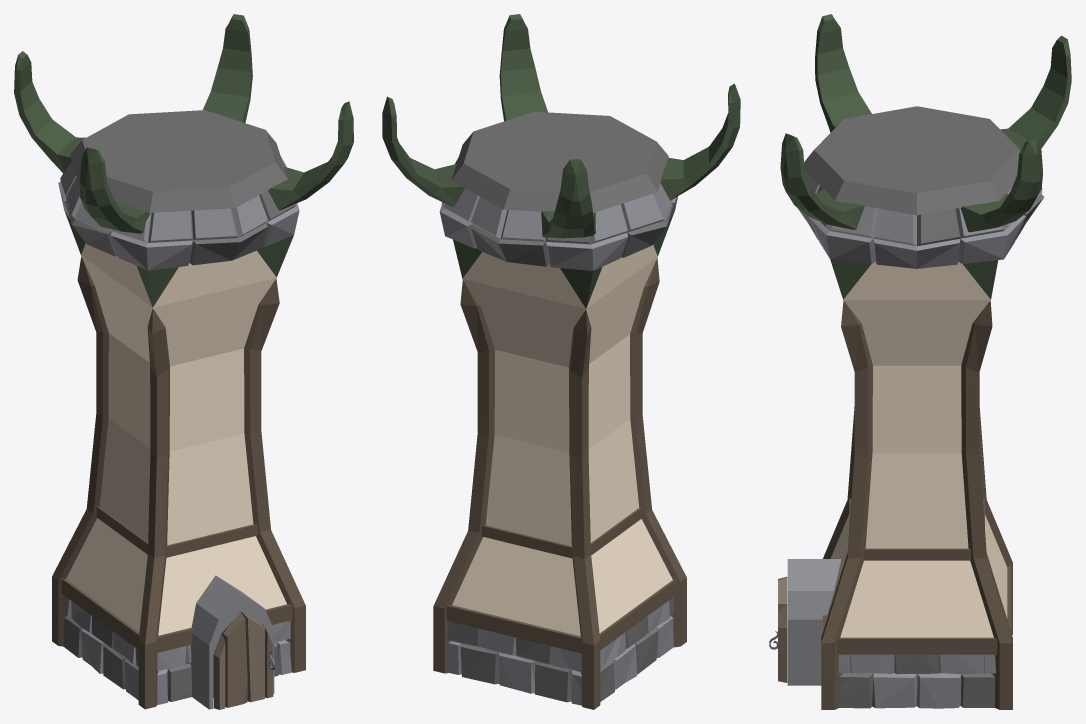
The model's file is Poison_tower_LVL_1.fbx.
3 views of the same model, side by side, from view 1: azimuth 30°, elevation 25°; view 2: azimuth 150°, elevation 25°; view 3: azimuth 270°, elevation 25° (orthographic). The views are drawn at different scales.
Parts seen in each view (by area): view 1: Poison_tower_LVL_1; view 2: Poison_tower_LVL_1; view 3: Poison_tower_LVL_1.
Boxes of the visible parts, x1,y1,x2,y2 form: Poison_tower_LVL_1: (14, 14, 353, 709); Poison_tower_LVL_1: (382, 14, 740, 709); Poison_tower_LVL_1: (769, 14, 1071, 709).
Size of the model in its own units: 610 by 1282 by 597.
